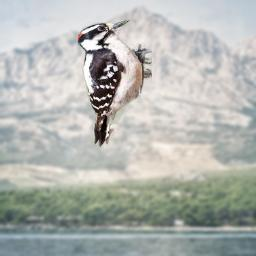Woodpecker: (75, 19, 152, 149)
